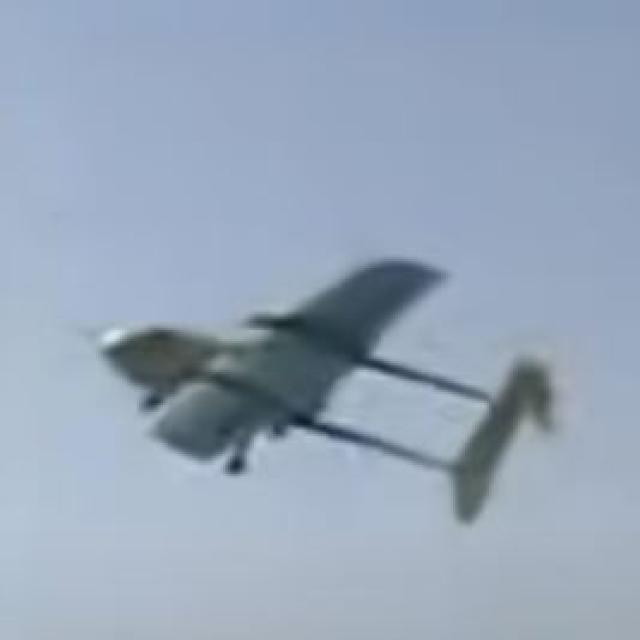iha: (85, 248, 555, 530)
